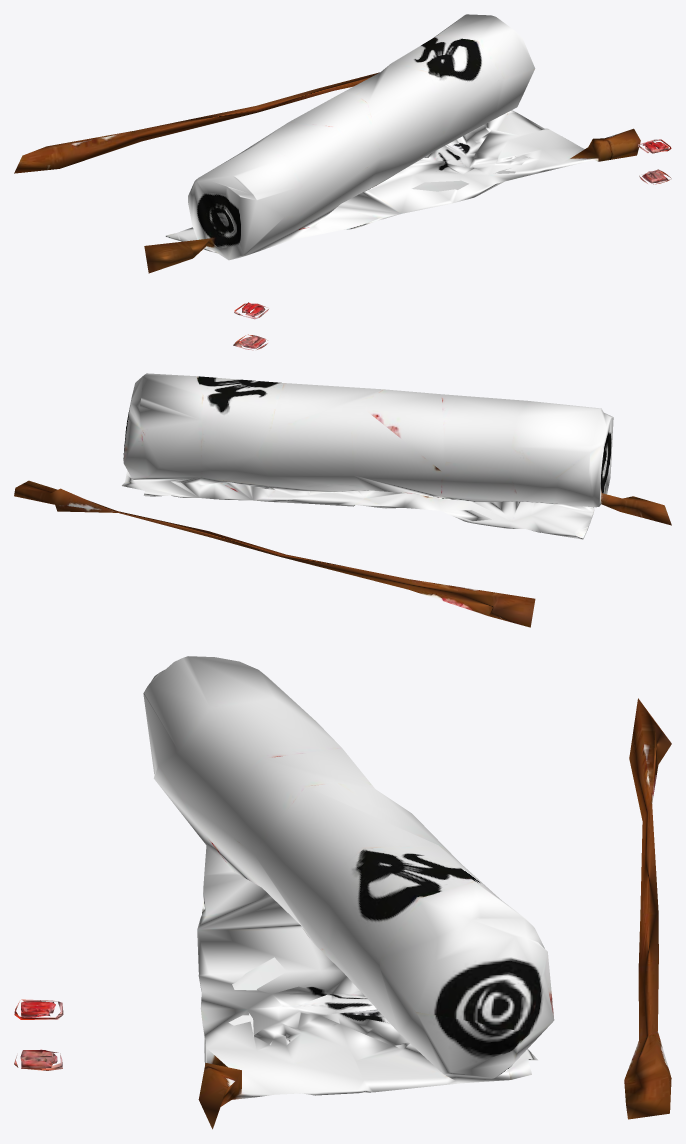
File: scroll.glb
3 renders of one model, top to bottom at view 1: azimuth 30°, elevation 25°; view 2: azimuth 150°, elevation 25°; view 3: azimuth 270°, elevation 25°, orthographic. The views are drawn at different scales.
Bounding box in the file's own units: 1.9 × 0.3651 × 1.34.
Materials: 1 (1 with a texture image).
